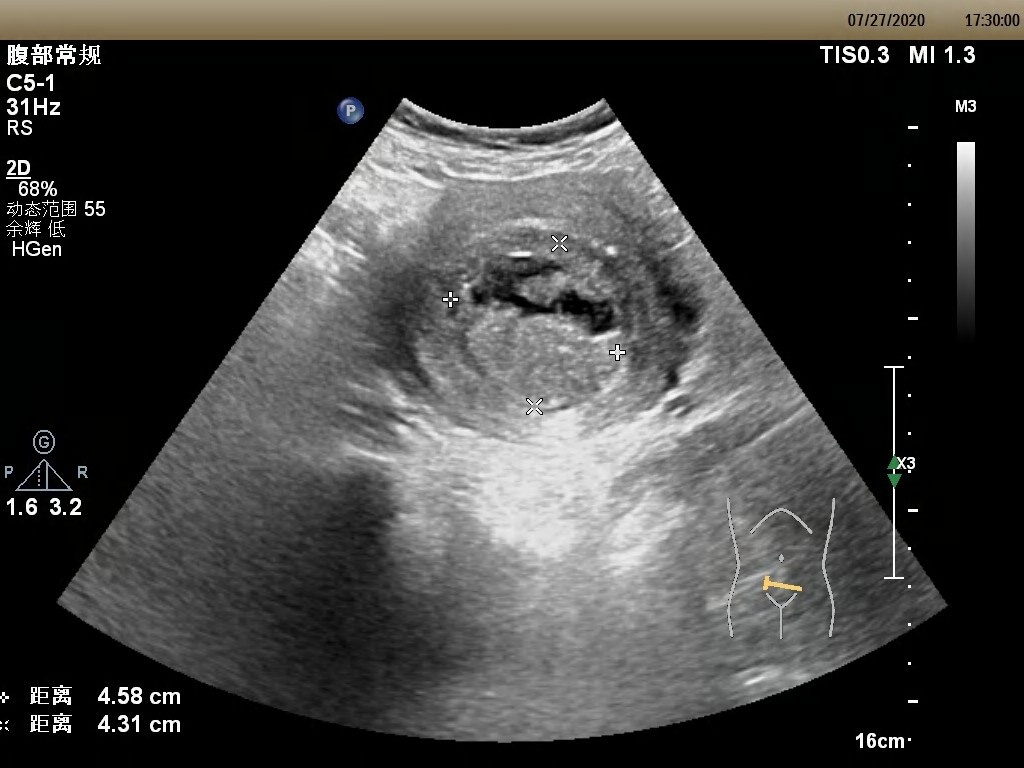肌瘤: (451, 245, 619, 405)
